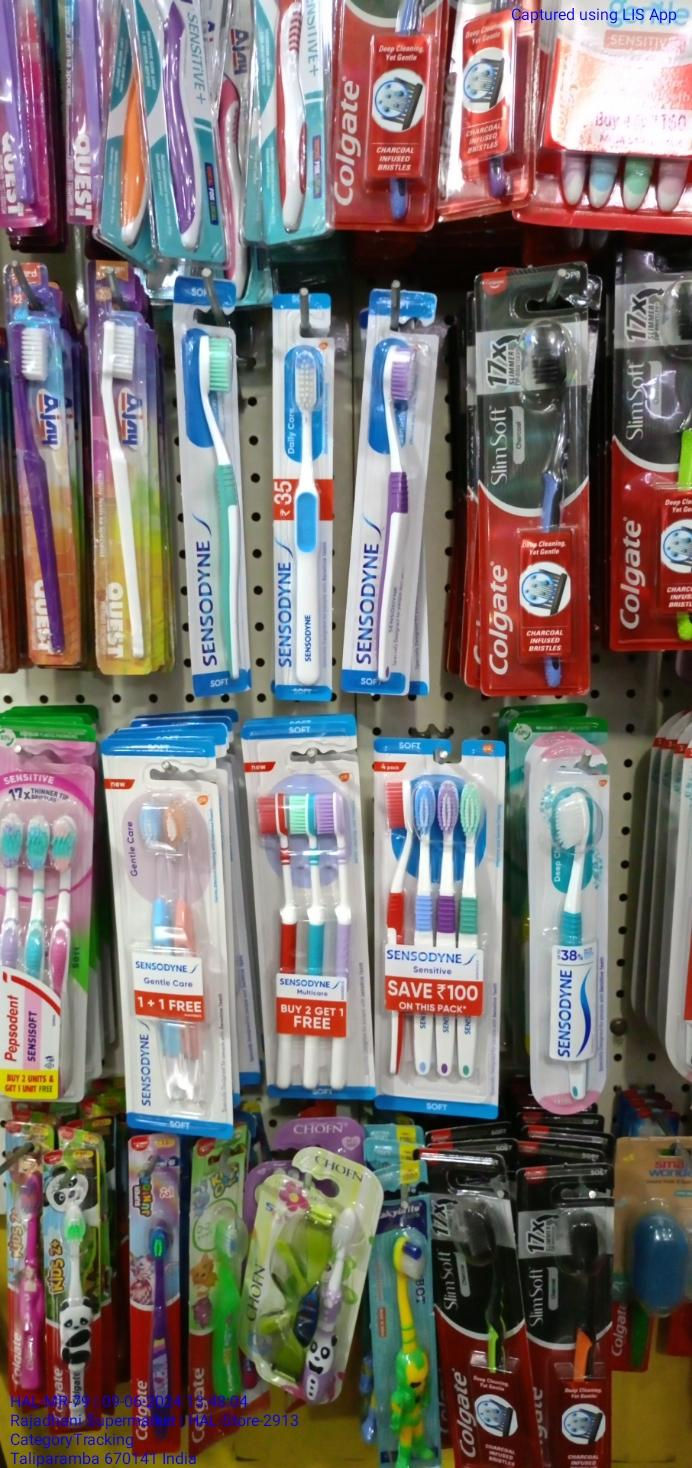12: (2, 738, 88, 1101)
14: (374, 737, 500, 1119)
7: (106, 748, 224, 1133)
8: (245, 729, 362, 1099)
soap: (474, 269, 586, 700), (613, 243, 692, 650), (430, 1146, 518, 1468), (527, 1165, 614, 1465)
